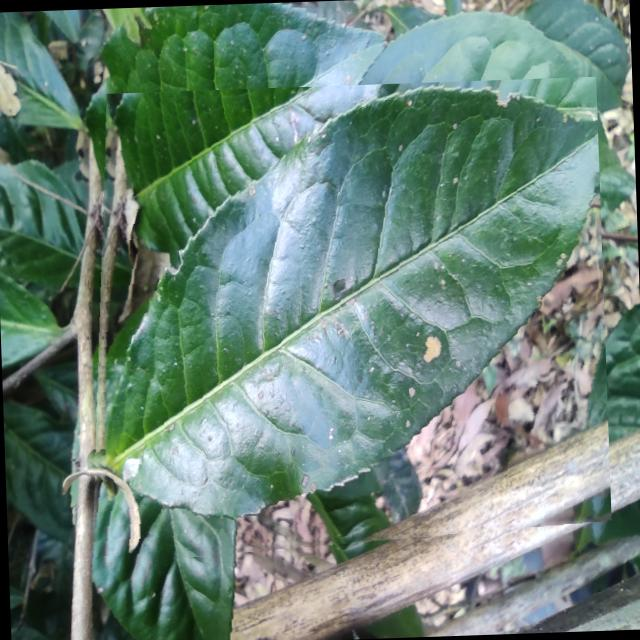Category D(7+ days, Not for Tea): (75, 75, 612, 564)
